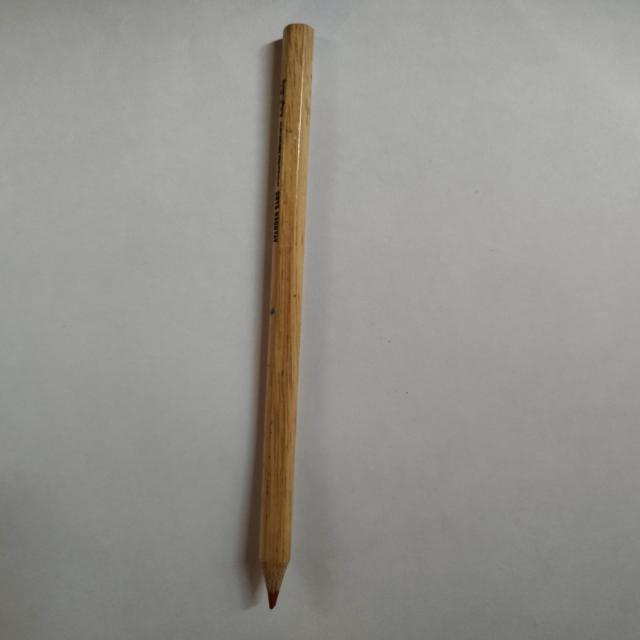pencil: (258, 23, 314, 609)
